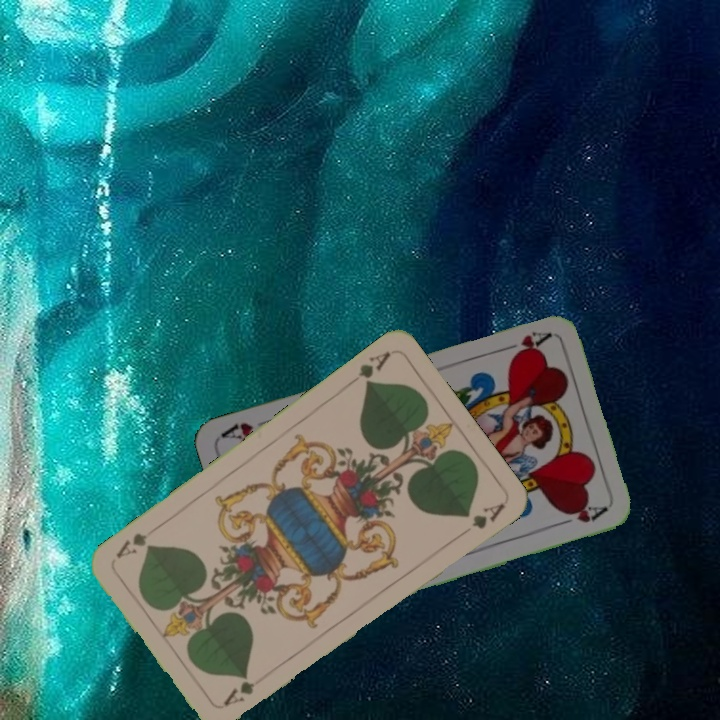GA: (219, 671, 271, 709), (353, 347, 394, 389)
HA: (495, 327, 553, 360)
